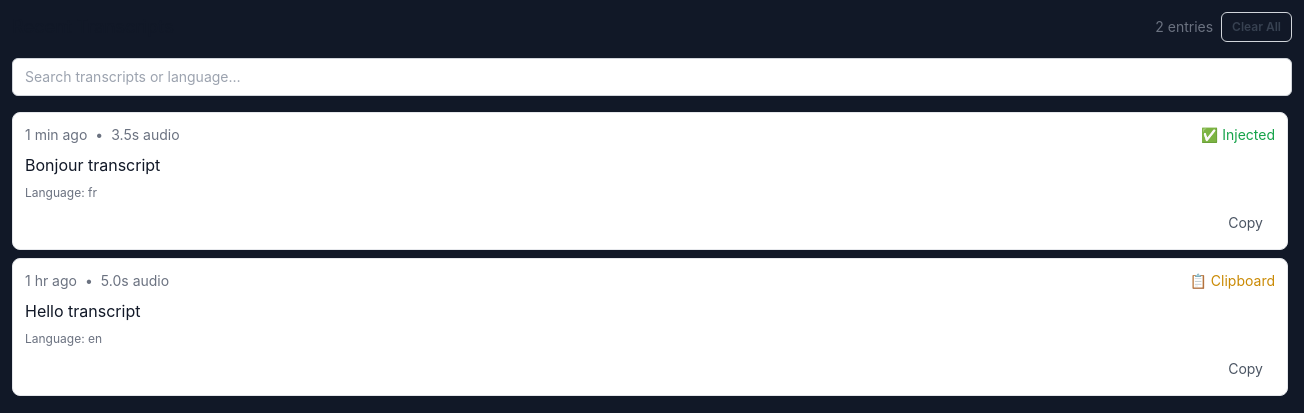
Test: HistoryPanel › matches search query against language field
In the search field with test id "history-search-input": (652, 77) left=12, top=58, right=1292, bottom=96, type "fr"
Wait 300 ms
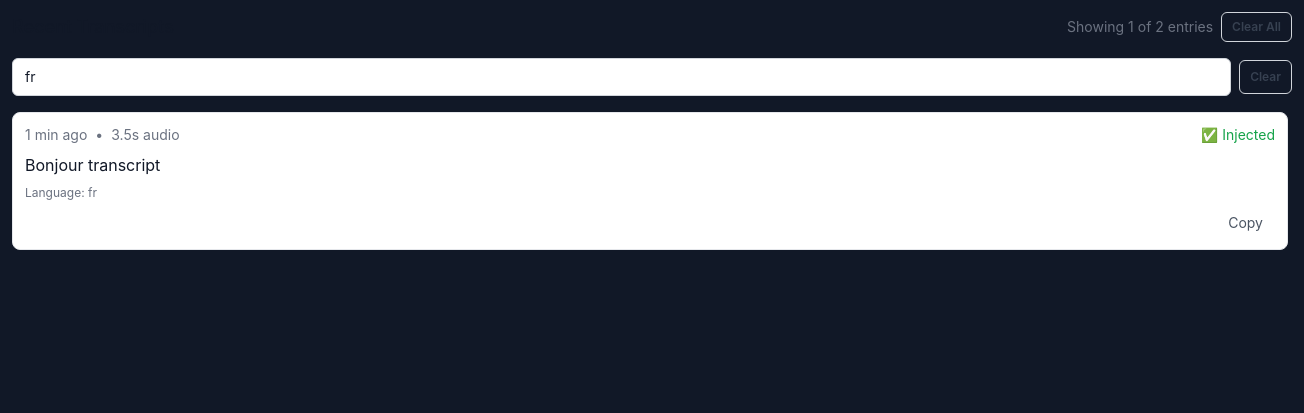
Expected: the text "Bonjour transcript" is shown, left=25, top=155, right=160, bottom=175
Result: the text "Hello transcript" is gone
Result: the text "Showing 1 of 2 entries" is shown at left=1067, top=17, right=1213, bottom=37
